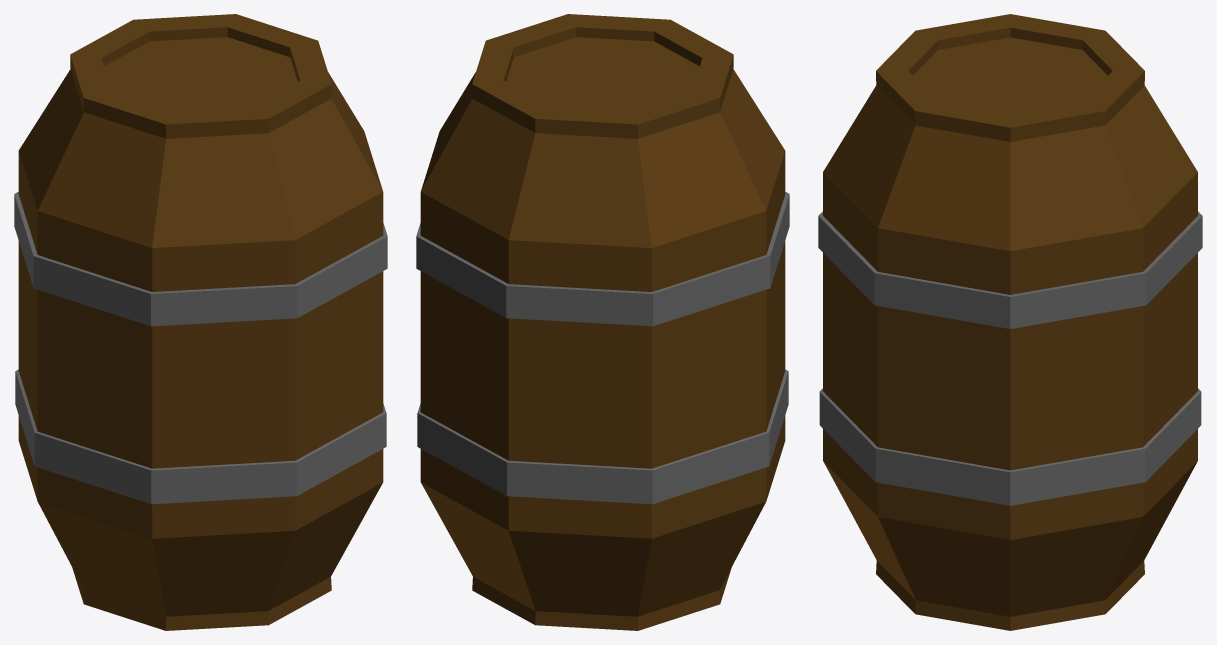
The model's file is Barrel.fbx.
The picture shows the model from 3 angles, left to right: view 1: azimuth 30°, elevation 25°; view 2: azimuth 150°, elevation 25°; view 3: azimuth 270°, elevation 25°; orthographic projection.
Parts seen in each view (by area): view 1: Cylinder; view 2: Cylinder; view 3: Cylinder.
Boxes of the visible parts, x1,y1,x2,y2 form: Cylinder: (14, 14, 387, 630); Cylinder: (416, 14, 789, 630); Cylinder: (818, 14, 1202, 630).
Bounding box in the file's own units: 102 × 148 × 102.
